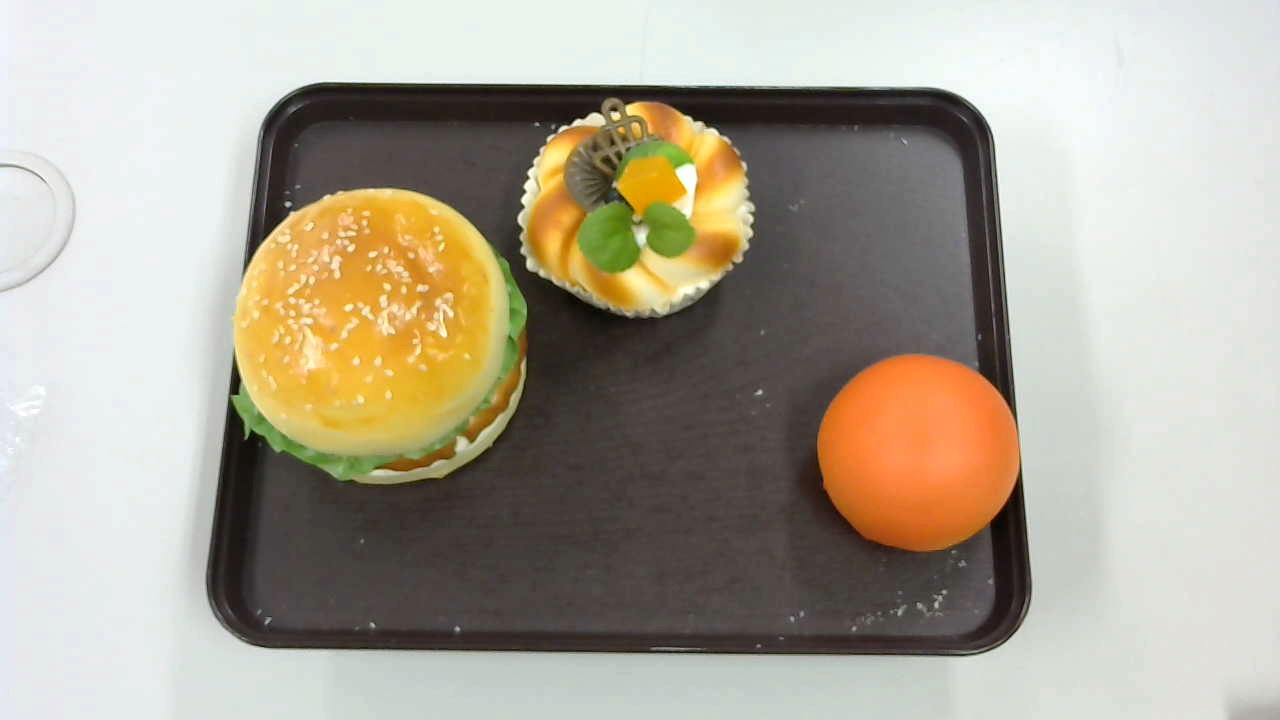bun: (815, 352, 1021, 552)
fruit tart: (518, 97, 755, 319)
hamburger: (231, 188, 529, 485)
